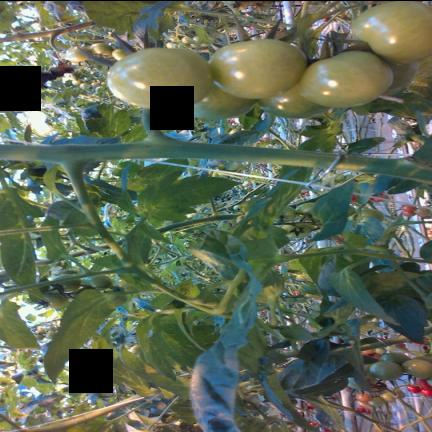6kp_peduncle: (104, 107, 208, 159), (36, 26, 70, 52)
6kp_petiole: (20, 142, 133, 197)
MainStem: (0, 137, 432, 185), (9, 393, 144, 432), (1, 18, 95, 42), (157, 212, 244, 231), (361, 335, 412, 350)
tomato: (107, 47, 213, 109), (209, 39, 306, 98), (299, 51, 393, 106), (351, 0, 431, 63), (180, 84, 255, 119), (258, 85, 329, 117), (383, 60, 418, 94), (369, 360, 403, 379), (402, 359, 431, 377), (81, 274, 111, 289), (282, 223, 314, 237), (56, 274, 80, 291), (294, 202, 314, 220), (65, 46, 89, 61), (380, 352, 409, 364), (44, 293, 66, 307), (278, 206, 297, 221), (90, 42, 112, 54), (347, 377, 361, 389), (111, 48, 126, 59), (368, 396, 386, 405), (355, 392, 372, 401), (414, 207, 430, 216), (380, 392, 394, 401), (417, 378, 430, 387), (406, 384, 420, 392), (370, 194, 386, 201), (401, 204, 416, 211), (334, 174, 346, 182), (128, 344, 139, 352), (46, 330, 56, 338), (402, 210, 415, 216), (420, 388, 431, 395), (79, 82, 90, 89), (285, 297, 296, 303), (357, 400, 369, 405), (312, 303, 319, 311), (35, 328, 45, 333), (296, 297, 306, 302), (306, 402, 313, 408), (72, 80, 82, 84), (35, 334, 42, 339)
